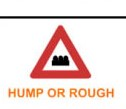Traffic signal: (30, 24, 92, 79)
